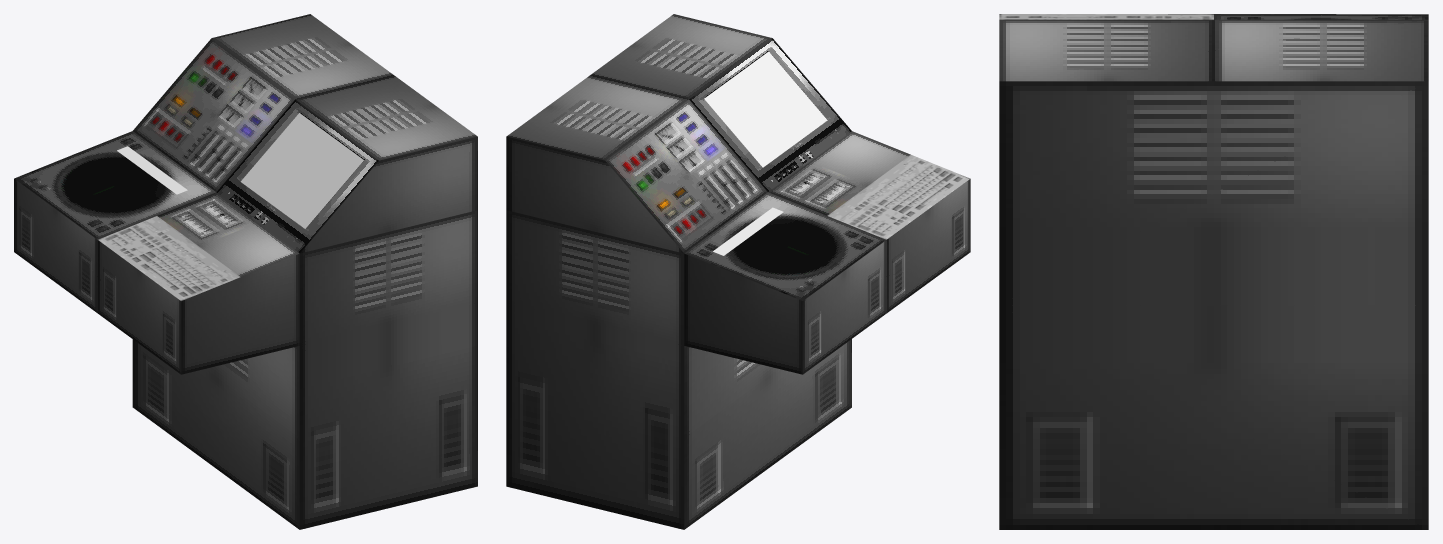
Rendered from frigate_console_5.glb.
3 renders of one model, left to right at view 1: azimuth 30°, elevation 25°; view 2: azimuth 150°, elevation 25°; view 3: azimuth 270°, elevation 25°, orthographic. The views are drawn at different scales.
Parts seen in each view (by area): view 1: Object; view 2: Object; view 3: Object.
Boxes of the visible parts, x1=… form: Object: x1=14, y1=14, x2=477, y2=529; Object: x1=506, y1=14, x2=970, y2=529; Object: x1=999, y1=14, x2=1428, y2=529.
Bounding box in the file's own units: 1.11 × 1.25 × 1.09.
Materials: 22 (22 with a texture image).
